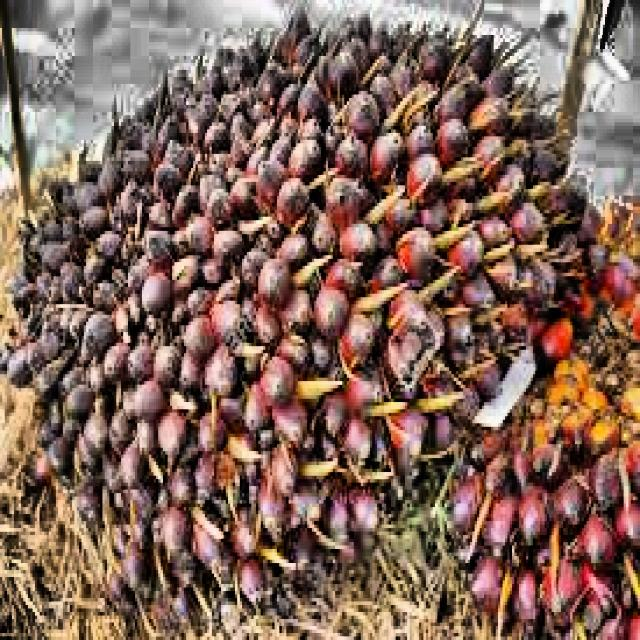FFB: (22, 4, 600, 623), (441, 357, 640, 640)
